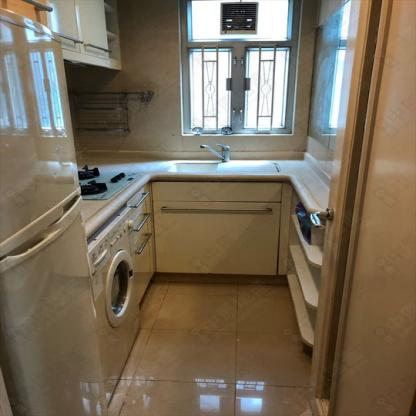Cupboard: (123, 182, 288, 302)
Exhaust Fan: (219, 3, 257, 34)
Fridge: (1, 7, 107, 414)
Sink: (166, 163, 280, 173)
Stove: (79, 165, 142, 200)
Washing Machine: (85, 206, 140, 403)
